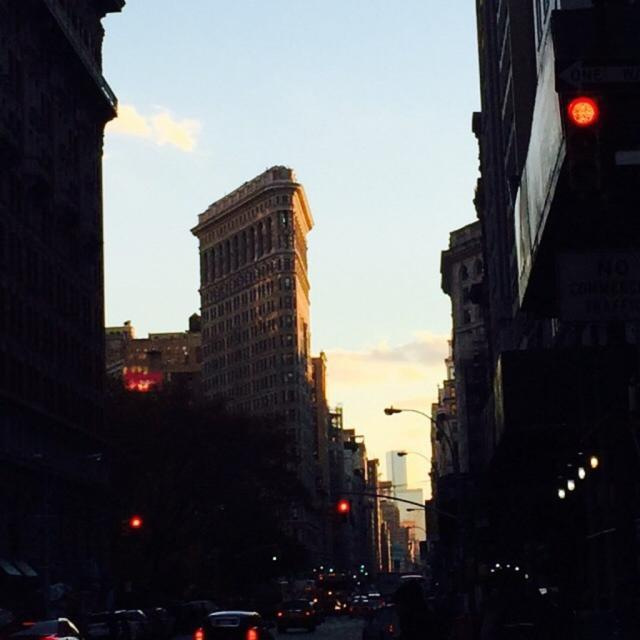traffic light: (566, 97, 610, 196)
